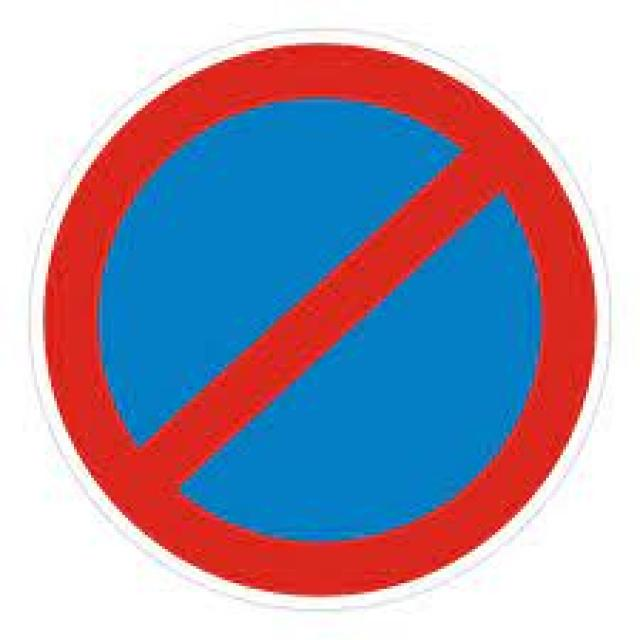NO_STOPPING_OR_STANDING: (34, 26, 615, 610)
